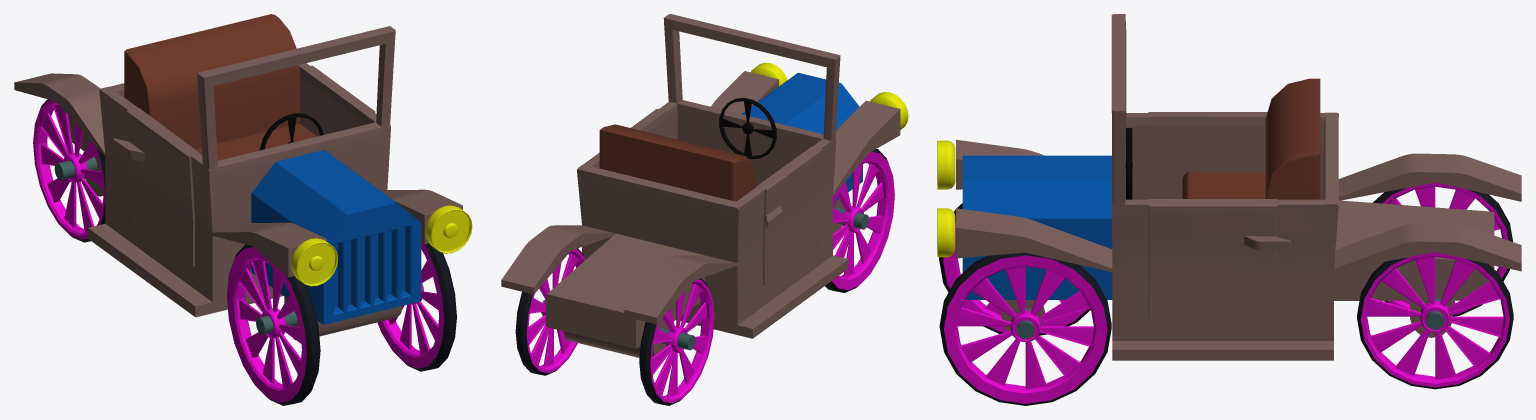
The model's file is testVehicle.fbx.
3 renders of one model, left to right at view 1: azimuth 30°, elevation 25°; view 2: azimuth 150°, elevation 25°; view 3: azimuth 270°, elevation 25°, orthographic. The views are drawn at different scales.
Parts seen in each view (by area): view 1: polySurface39; view 2: polySurface39; view 3: polySurface39.
Part boxes in pixels (box(x1,y1,x2,y2)): polySurface39: box(14, 14, 472, 405); polySurface39: box(501, 14, 908, 405); polySurface39: box(937, 14, 1521, 405).
Bounding box in the file's own units: 239 × 326 × 560.
